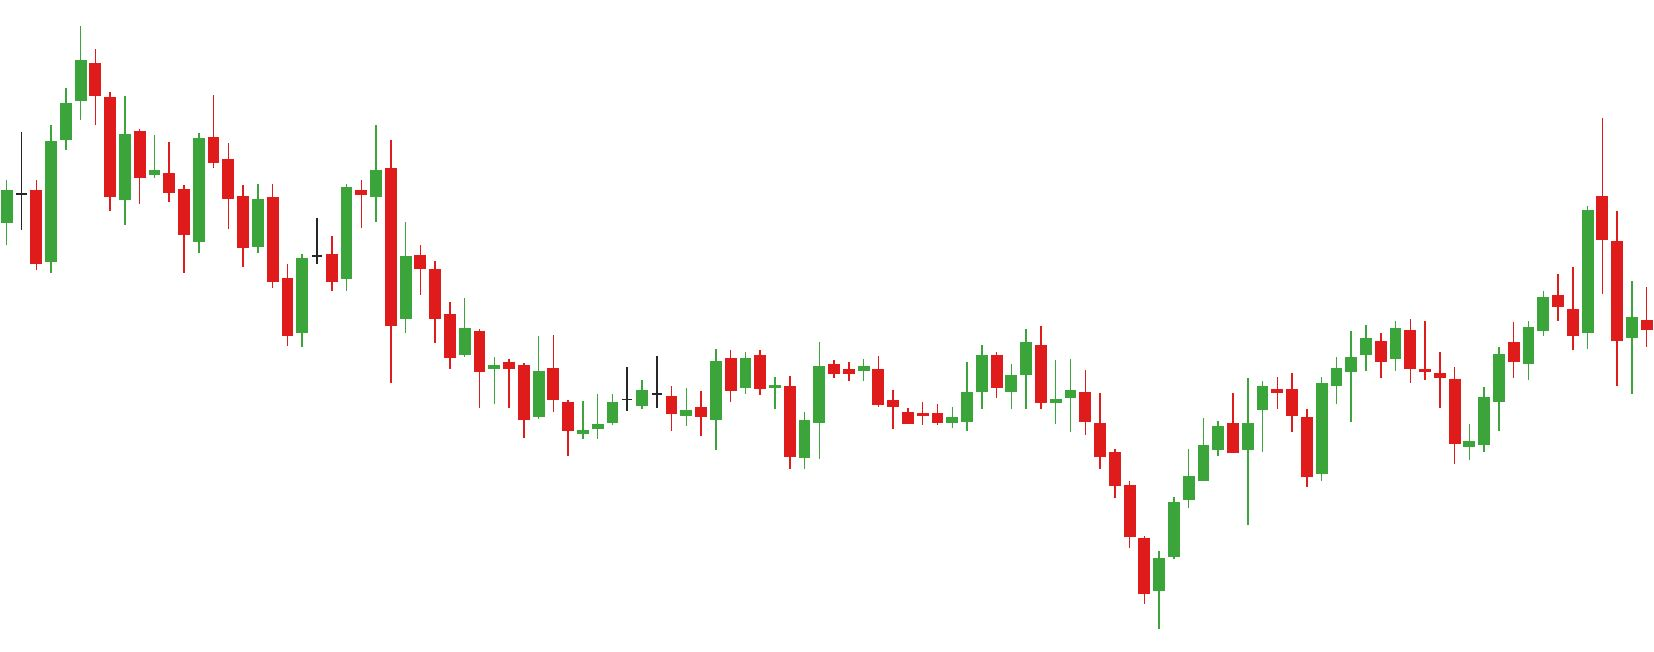buy: (1342, 339, 1492, 467), (703, 372, 814, 472)
